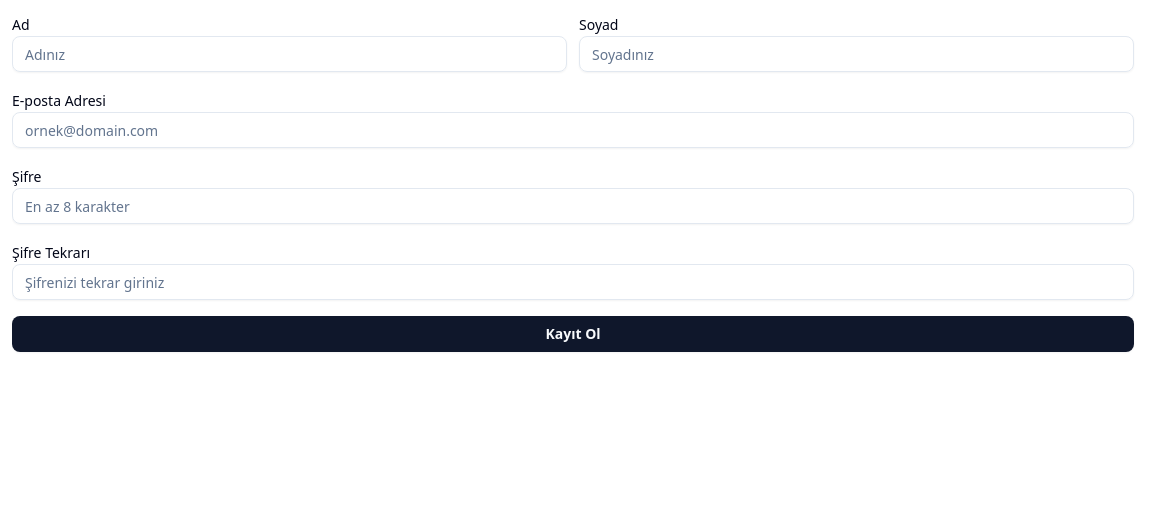
RegisterForm › displays field validation errors when registerAction returns fieldErrors
Type "A" into the field labelled "Ad" at (290, 54), box [12,36,567,72]
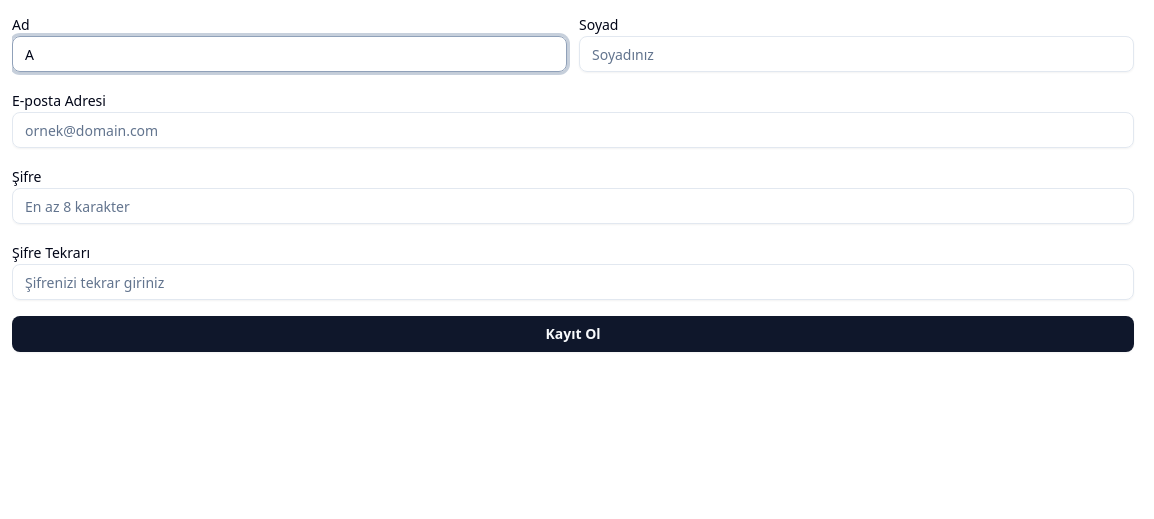
Type "B" into the field labelled "Soyad" at (856, 54), box [579,36,1134,72]
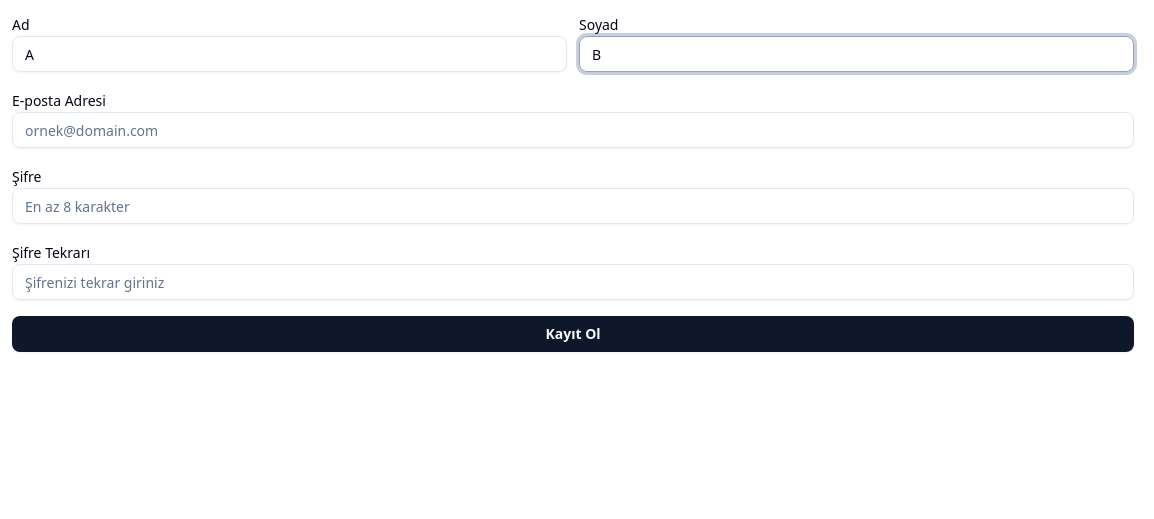
Type "test@example.com" into the field labelled "E-posta Adresi" at (573, 130), box [12,112,1134,148]
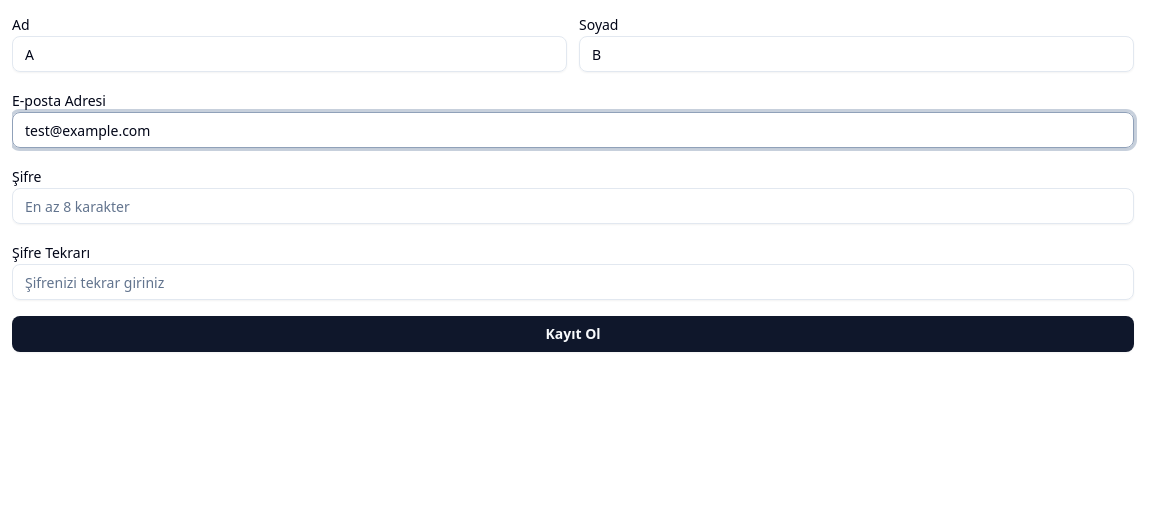
Type "pass" into the password field labelled "Şifre" at (573, 206), box [12,188,1134,224]
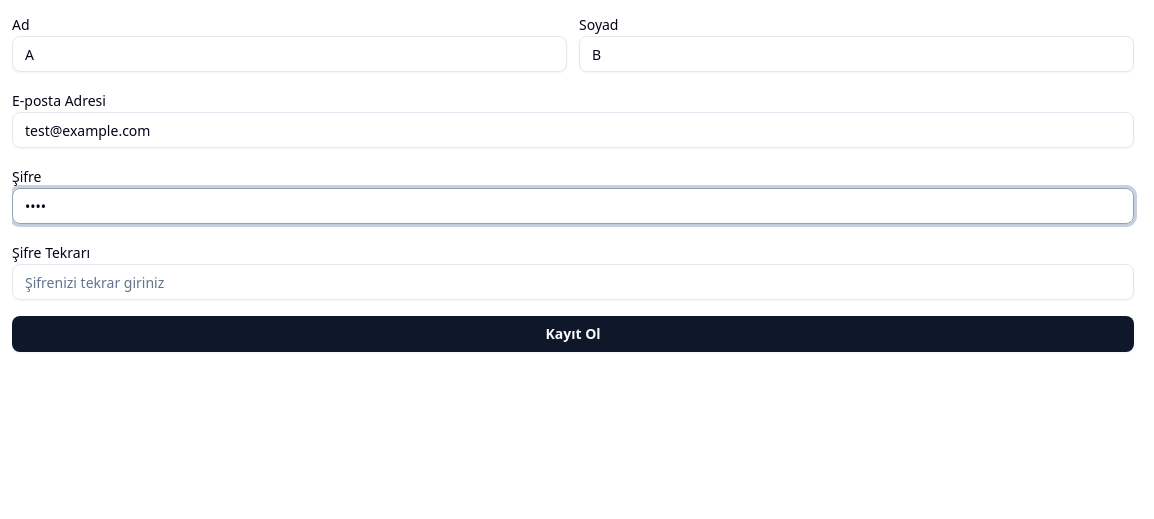
Type "pass2" into the password field labelled "Şifre Tekrarı" at (573, 282), box [12,264,1134,300]
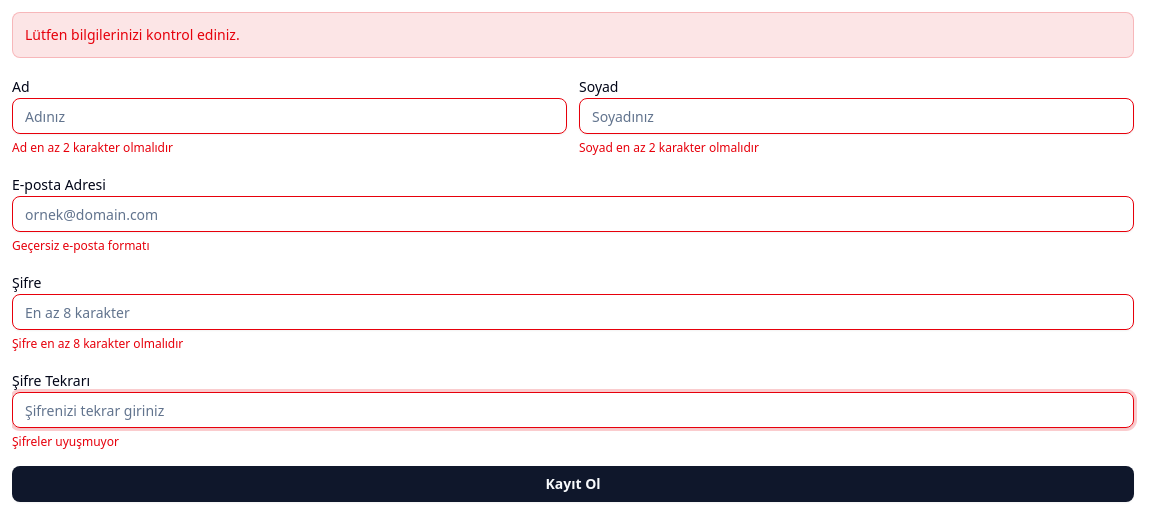
Check: the text "Ad en az 2 karakter olmalıdır" is shown, box [12,139,173,156]
Check: the text "Soyad en az 2 karakter olmalıdır" is shown, box [579,139,759,156]
Check: the text "Geçersiz e-posta formatı" is shown, box [12,237,150,254]
